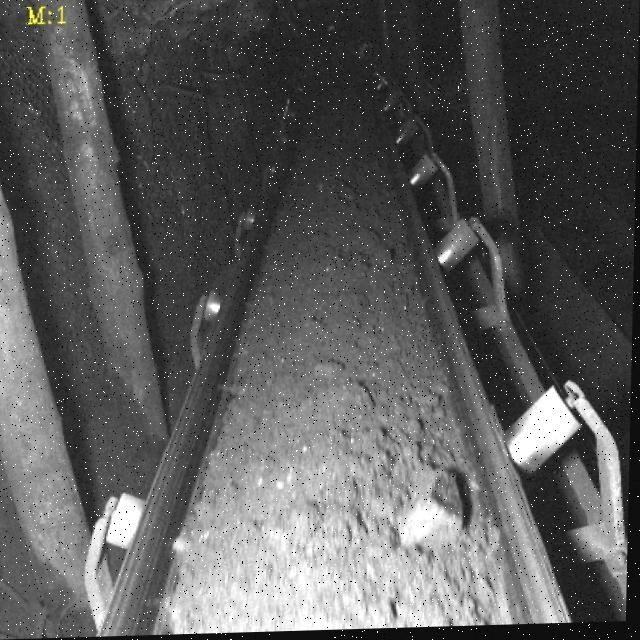large_sized_coal: (402, 475, 464, 549)
